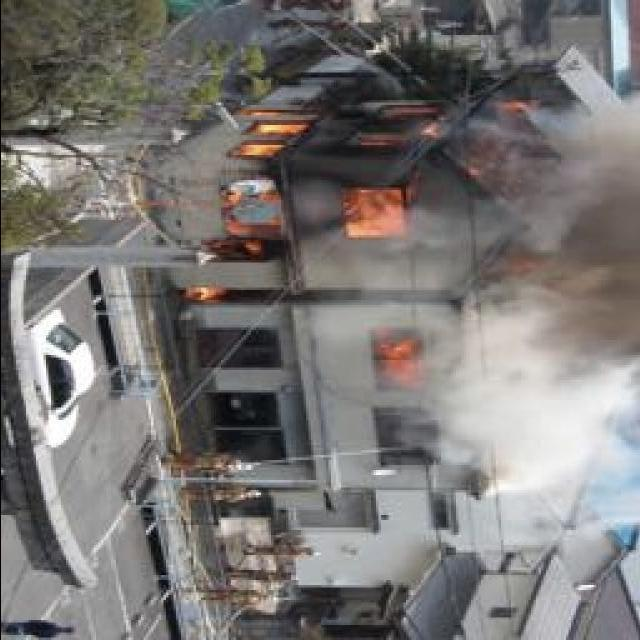Fire: (176, 82, 542, 308), (366, 334, 418, 401)
